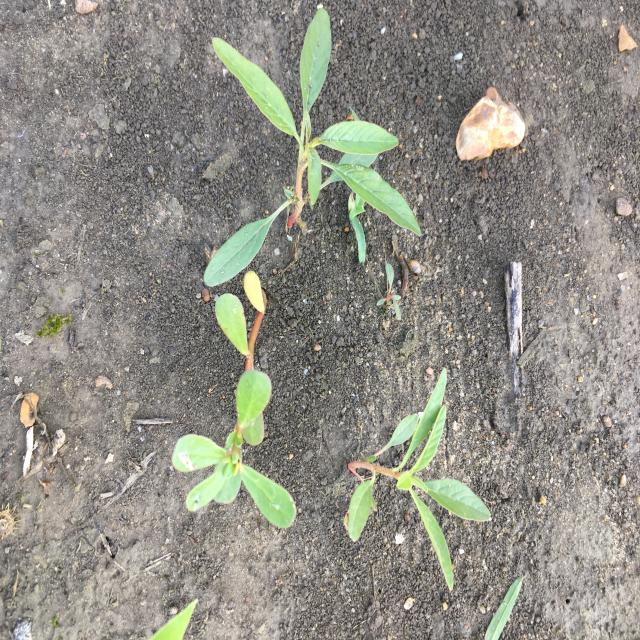Purslane: (171, 270, 298, 530)
Waterhemp: (202, 5, 423, 289), (343, 365, 492, 593)
